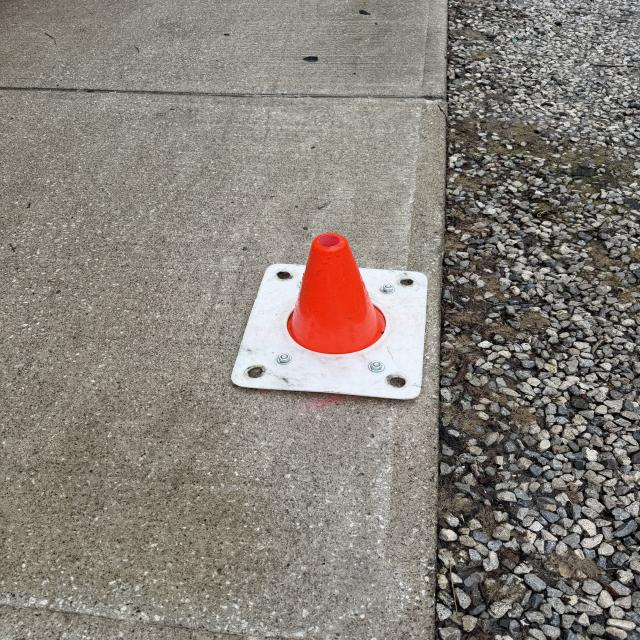Traffic Cone: (231, 231, 429, 402)
